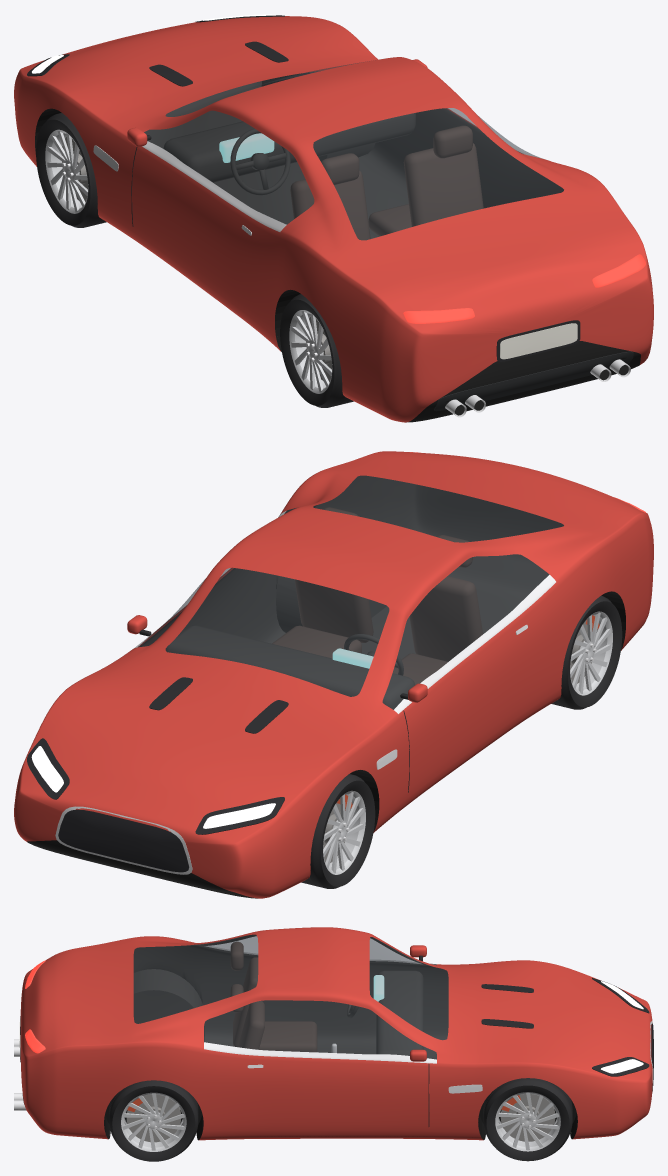
File: MeridianGT.glb
3 views of the same model, one above another, from view 1: azimuth 30°, elevation 25°; view 2: azimuth 150°, elevation 25°; view 3: azimuth 270°, elevation 25° (orthographic). The views are drawn at different scales.
Visible parts, largest first — view 1: MeridianGT_Body, MeridianGT_Glass, MeridianGT_Interior, MeridianGT_Wheel_FL, MeridianGT_Wheel_RL, MeridianGT_Lights_Tail, MeridianGT_Steering; view 2: MeridianGT_Body, MeridianGT_Glass, MeridianGT_Interior, MeridianGT_Wheel_FL, MeridianGT_Wheel_RL, MeridianGT_Lights_Head; view 3: MeridianGT_Body, MeridianGT_Glass, MeridianGT_Interior, MeridianGT_Wheel_FR, MeridianGT_Wheel_RR, MeridianGT_Lights_Head, MeridianGT_Lights_Tail.
Boxes of the visible parts, <box> form: MeridianGT_Body: <box>14,15,653,422</box>; MeridianGT_Glass: <box>144,61,563,239</box>; MeridianGT_Interior: <box>144,71,563,338</box>; MeridianGT_Wheel_FL: <box>36,113,106,227</box>; MeridianGT_Wheel_RL: <box>280,294,353,407</box>; MeridianGT_Lights_Tail: <box>403,254,645,323</box>; MeridianGT_Steering: <box>230,128,290,195</box>; MeridianGT_Body: <box>14,451,653,898</box>; MeridianGT_Glass: <box>138,476,563,709</box>; MeridianGT_Interior: <box>139,475,563,709</box>; MeridianGT_Wheel_FL: <box>301,774,375,888</box>; MeridianGT_Wheel_RL: <box>551,595,622,709</box>; MeridianGT_Lights_Head: <box>31,746,275,828</box>; MeridianGT_Body: <box>14,927,653,1140</box>; MeridianGT_Glass: <box>134,935,448,1059</box>; MeridianGT_Interior: <box>109,934,577,1135</box>; MeridianGT_Wheel_FR: <box>483,1078,572,1161</box>; MeridianGT_Wheel_RR: <box>109,1080,198,1161</box>; MeridianGT_Lights_Head: <box>601,981,643,1073</box>; MeridianGT_Lights_Tail: <box>25,960,45,1053</box>.
Size of the model in its own units: 2 by 1.3 by 4.87.
